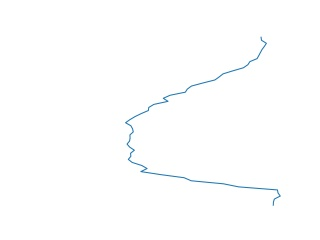underwaterDistributaryChannel: (121, 33, 285, 207)
